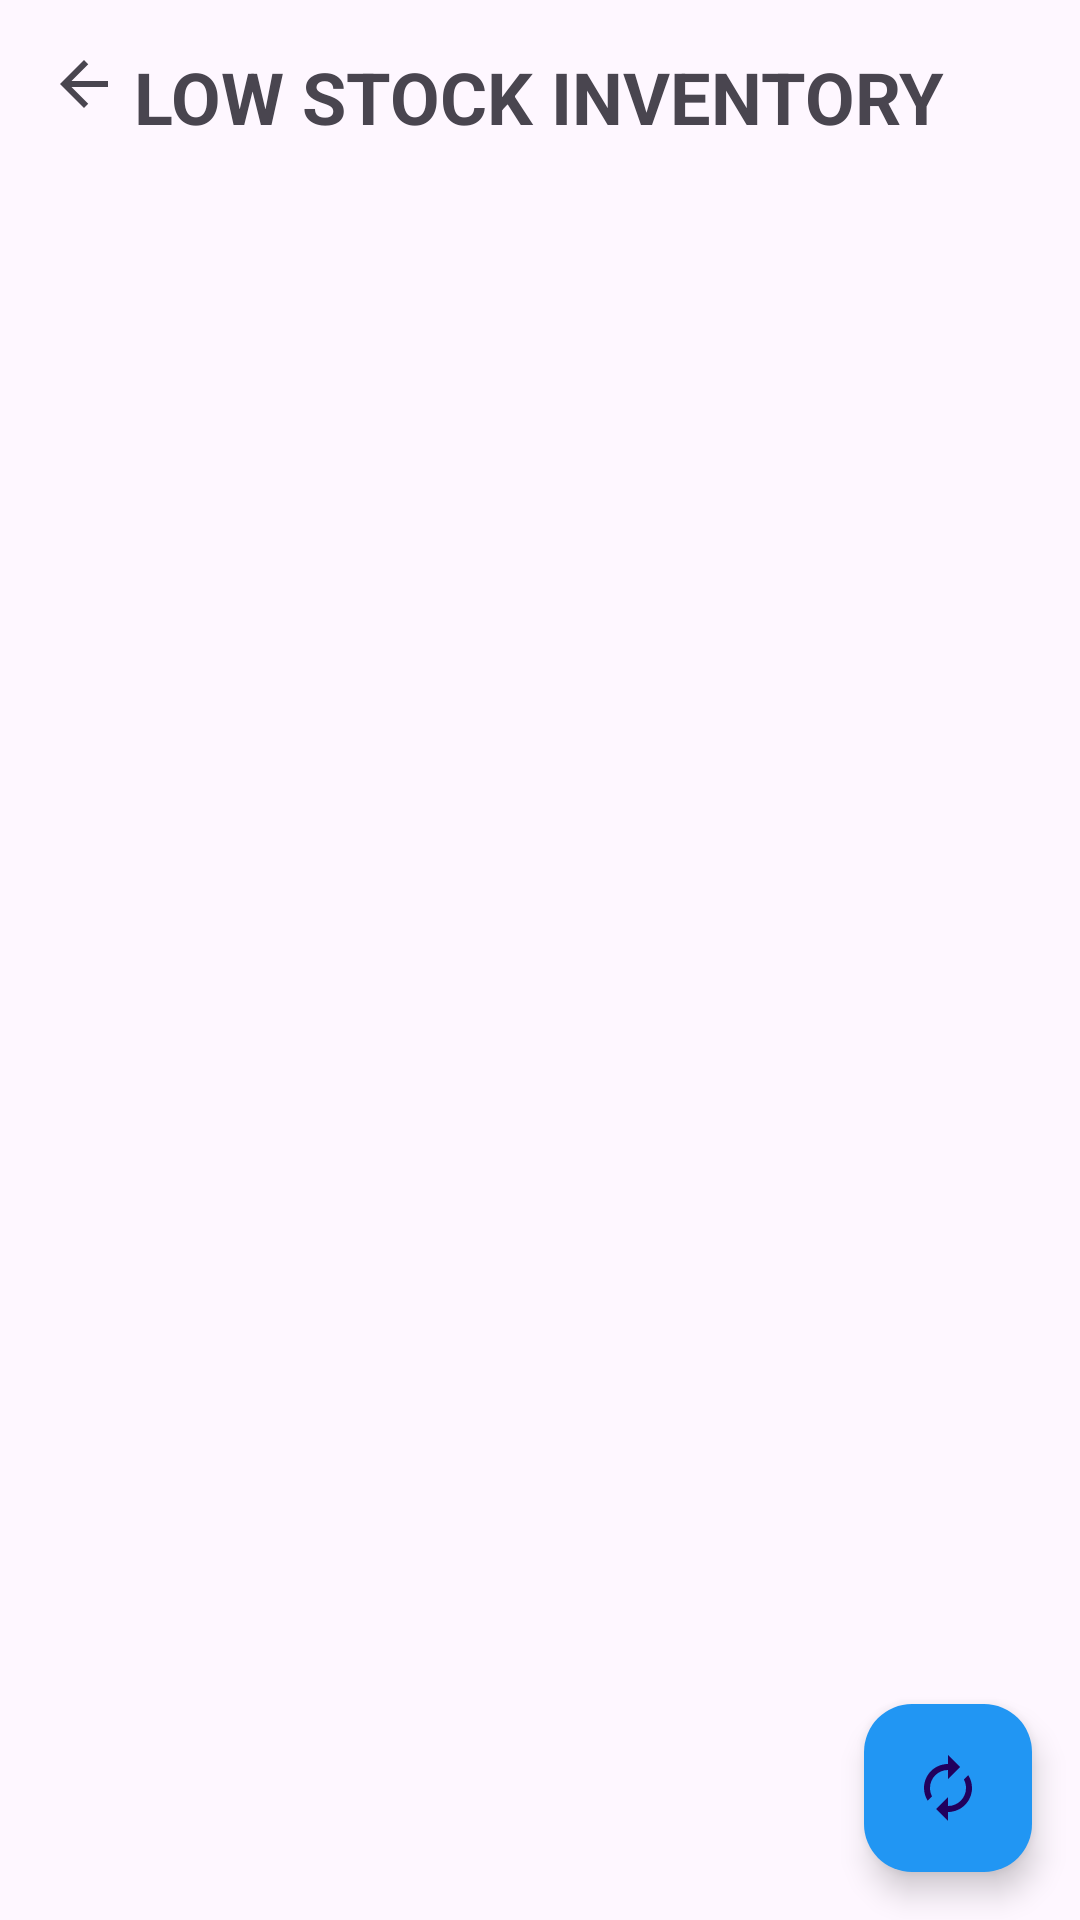

Locate icon controls on the screen. Image size 1080×1920, boxes as [x1, y1, x2, y2].
Back: [60, 60, 108, 108]
Refresh: [864, 1704, 1032, 1872]
